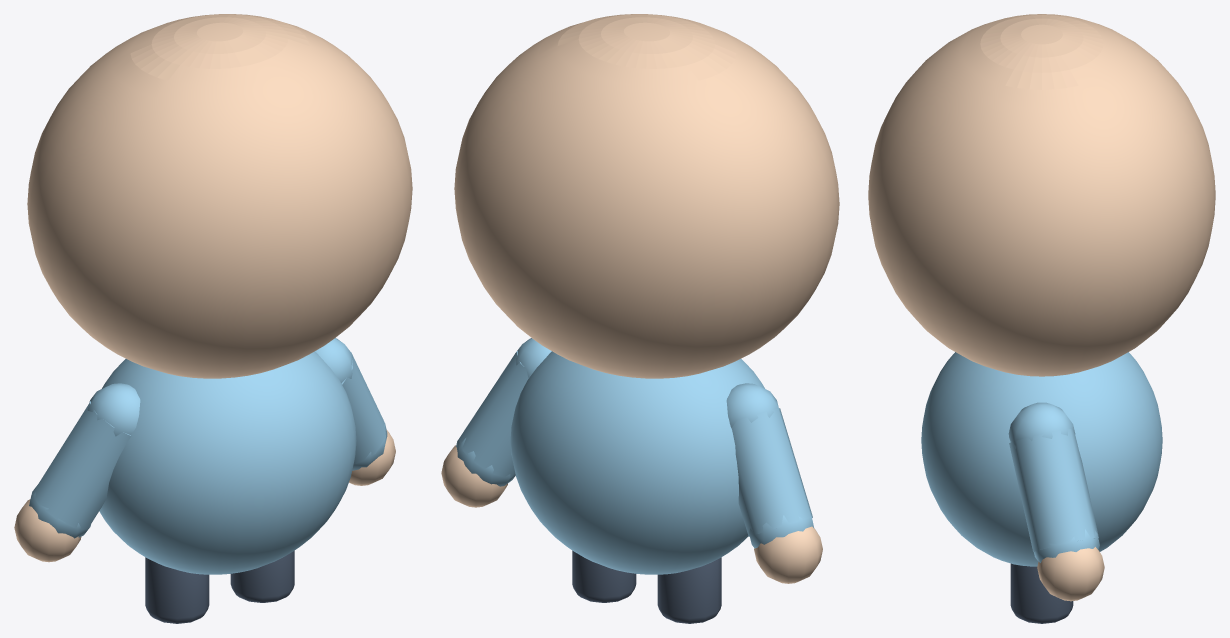
File: Body_Sturdy.fbx
The picture shows the model from 3 angles, left to right: view 1: azimuth 30°, elevation 25°; view 2: azimuth 150°, elevation 25°; view 3: azimuth 270°, elevation 25°; orthographic projection. The views are drawn at different scales.
Visible parts, largest first — view 1: Head, Body, Arm.001, Leg.001, Arm, Leg, Hand.001, Arm_Cap.002, Hand, Arm_Cap, Arm_Cap.003; view 2: Head, Body, Arm.001, Arm, Leg.001, Hand.001, Leg, Hand, Arm_Cap.002, Arm_Cap.003, Arm_Cap.001, Arm_Cap; view 3: Head, Body, Arm, Hand, Leg, Arm_Cap, Arm_Cap.001.
Part boxes in pixels (box(x1,y1,x2,y2)): Head: box(27, 14, 412, 378); Body: box(99, 351, 356, 574); Arm.001: box(32, 401, 131, 529); Leg.001: box(145, 557, 209, 623); Arm: box(341, 352, 385, 463); Leg: box(230, 550, 294, 602); Hand.001: box(14, 499, 81, 562); Arm_Cap.002: box(87, 383, 140, 436); Hand: box(349, 430, 395, 485); Arm_Cap: box(315, 338, 352, 383); Arm_Cap.003: box(29, 485, 90, 538); Head: box(454, 14, 839, 378); Body: box(510, 351, 764, 574); Arm.001: box(729, 408, 812, 536); Arm: box(459, 351, 531, 477); Leg.001: box(657, 557, 721, 623); Hand.001: box(754, 526, 822, 583); Leg: box(572, 550, 636, 602); Hand: box(441, 445, 507, 507); Arm_Cap.002: box(726, 383, 779, 427); Arm_Cap.003: box(749, 514, 814, 548); Arm_Cap.001: box(456, 438, 515, 486); Arm_Cap: box(516, 338, 551, 378); Head: box(868, 14, 1215, 376); Body: box(921, 352, 1162, 566); Arm: box(1009, 429, 1098, 552); Hand: box(1037, 547, 1104, 601); Leg: box(1010, 563, 1073, 623); Arm_Cap: box(1008, 402, 1075, 448); Arm_Cap.001: box(1034, 529, 1099, 562).
Bounding box in the file's own units: 87.16 × 128 × 72.
